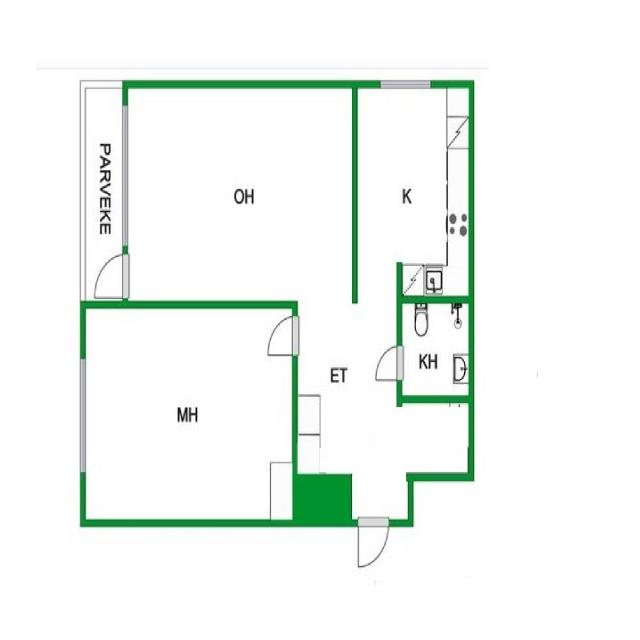door: (92, 254, 128, 300), (358, 520, 389, 572), (265, 316, 297, 355), (374, 346, 402, 379)
